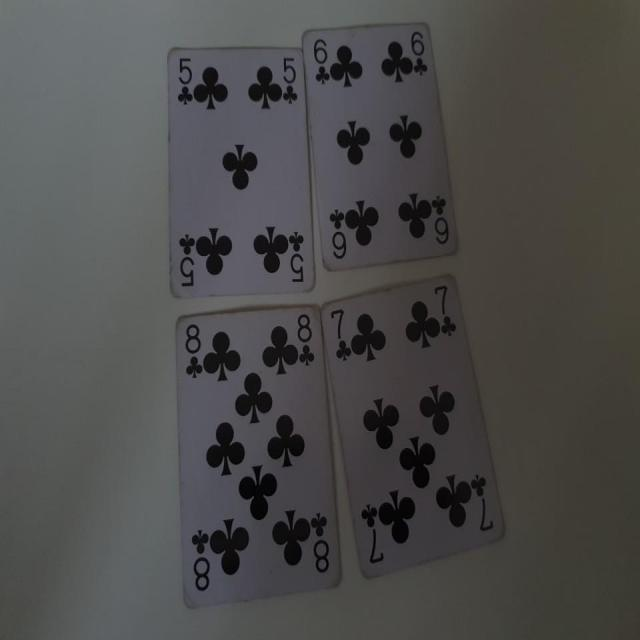5 Trefoils: (166, 45, 318, 298)
6 Trefoils: (302, 20, 462, 273)
7 Trefoils: (320, 272, 507, 583)
8 Trefoils: (175, 304, 343, 613)
